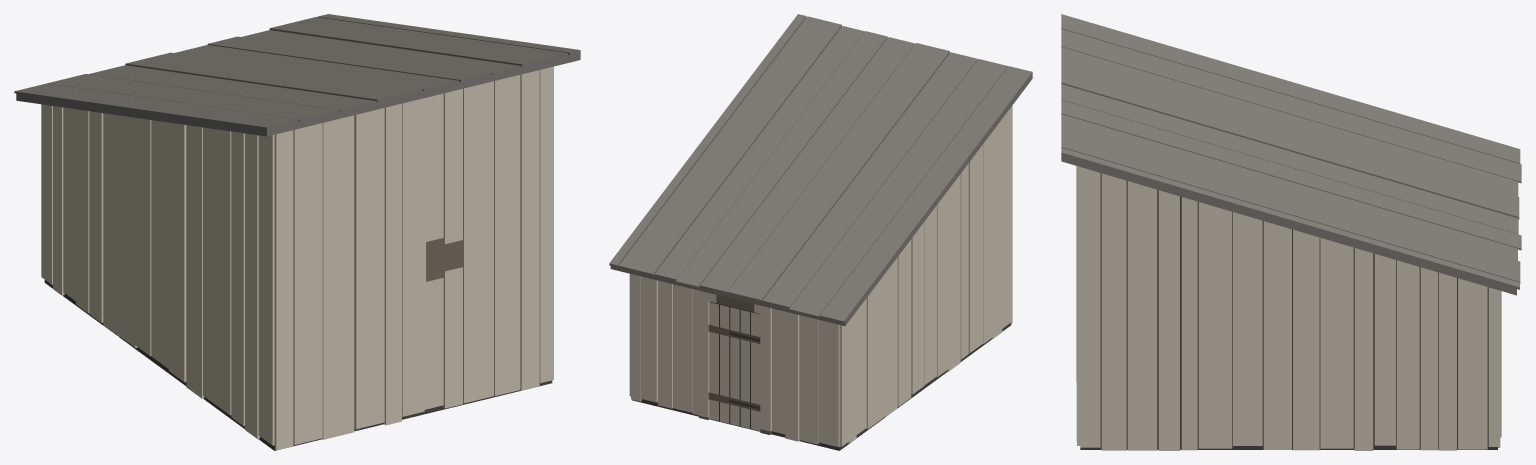
File: recon_1835_north_a4_010__inferred_1835.glb
3 renders of one model, left to right at view 1: azimuth 30°, elevation 25°; view 2: azimuth 150°, elevation 25°; view 3: azimuth 270°, elevation 25°, orthographic. The views are drawn at different scales.
Visible parts, largest first — view 1: recon_1835_north_a4_010__inferred_1835; view 2: recon_1835_north_a4_010__inferred_1835; view 3: recon_1835_north_a4_010__inferred_1835.
Boxes of the visible parts, <box> form: recon_1835_north_a4_010__inferred_1835: <box>14,14,580,450</box>; recon_1835_north_a4_010__inferred_1835: <box>609,14,1032,450</box>; recon_1835_north_a4_010__inferred_1835: <box>1061,14,1521,450</box>.
Bounding box in the file's own units: 3.88 × 3.97 × 5.43.
